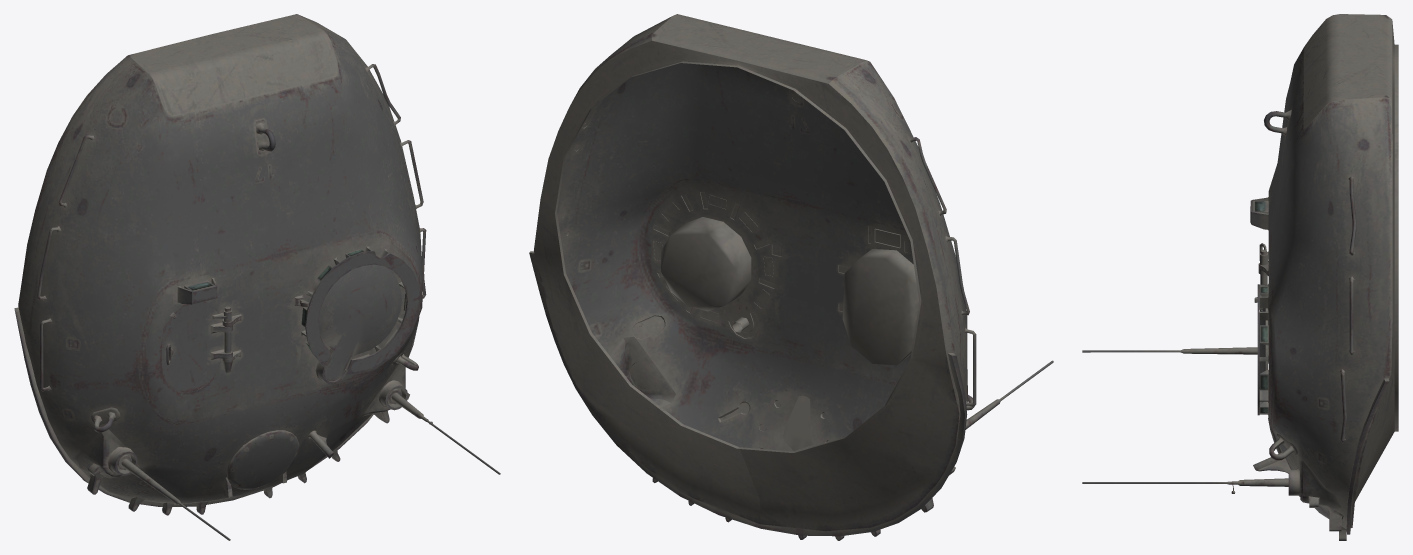
File: Turret_01.glb
The picture shows the model from 3 angles, left to right: view 1: azimuth 30°, elevation 25°; view 2: azimuth 150°, elevation 25°; view 3: azimuth 270°, elevation 25°; orthographic projection. The views are drawn at different scales.
Parts seen in each view (by area): view 1: set_0_group_0; view 2: set_0_group_0; view 3: set_0_group_0.
Boxes of the visible parts, x1,y1,x2,y2 form: set_0_group_0: (14, 14, 500, 540); set_0_group_0: (529, 14, 1053, 540); set_0_group_0: (1082, 14, 1398, 540).
Bounding box in the file's own units: 2.72 × 2.98 × 1.88.
Materials: 1 (1 with a texture image).
